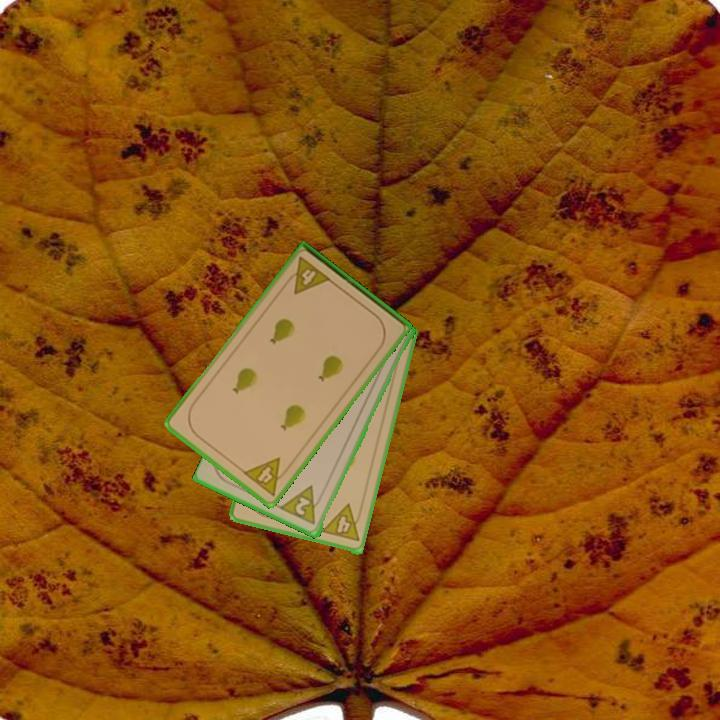2p: (278, 482, 326, 528)
4p: (239, 454, 294, 499), (281, 253, 334, 297), (318, 501, 366, 545)
